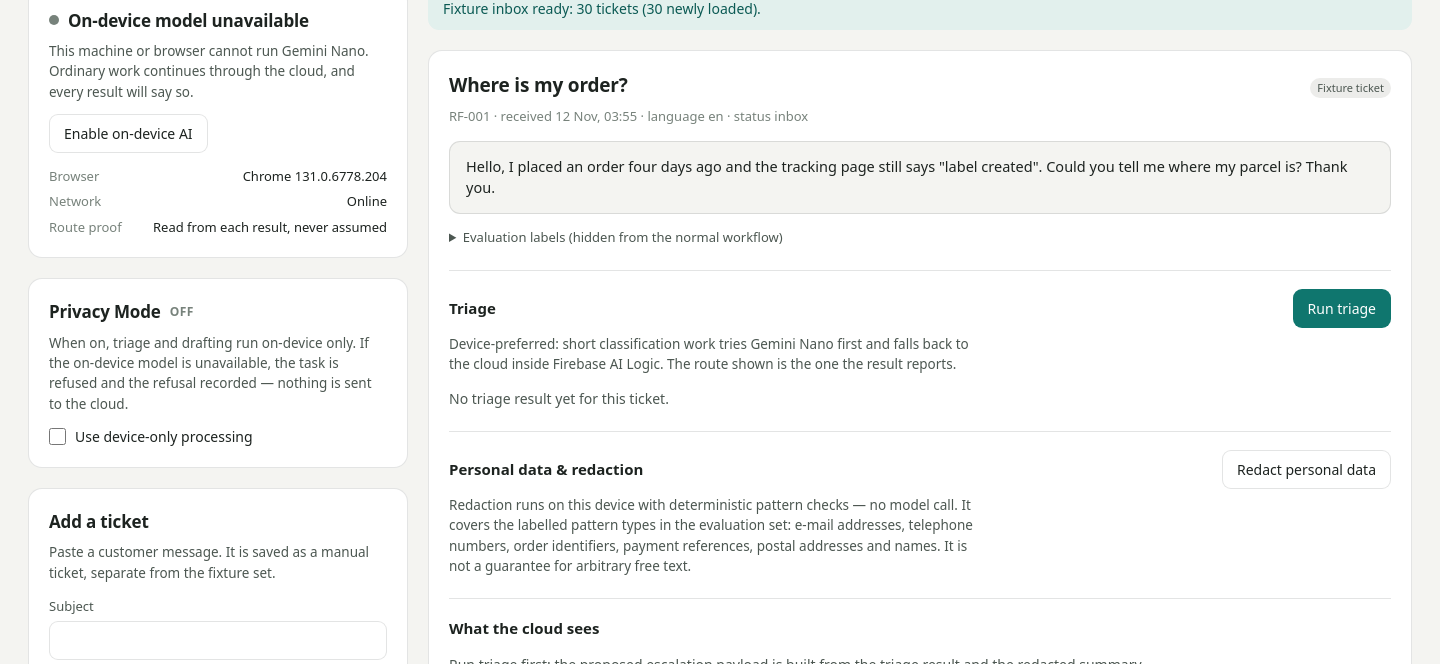
Scenario: App Privacy Mode escalation presentation (13 Nov fix) › recording the refusal stores the blocked route event with zero cloud calls
Click the button "Run triage". click: (1342, 308)
box: [1292,288,1391,328]
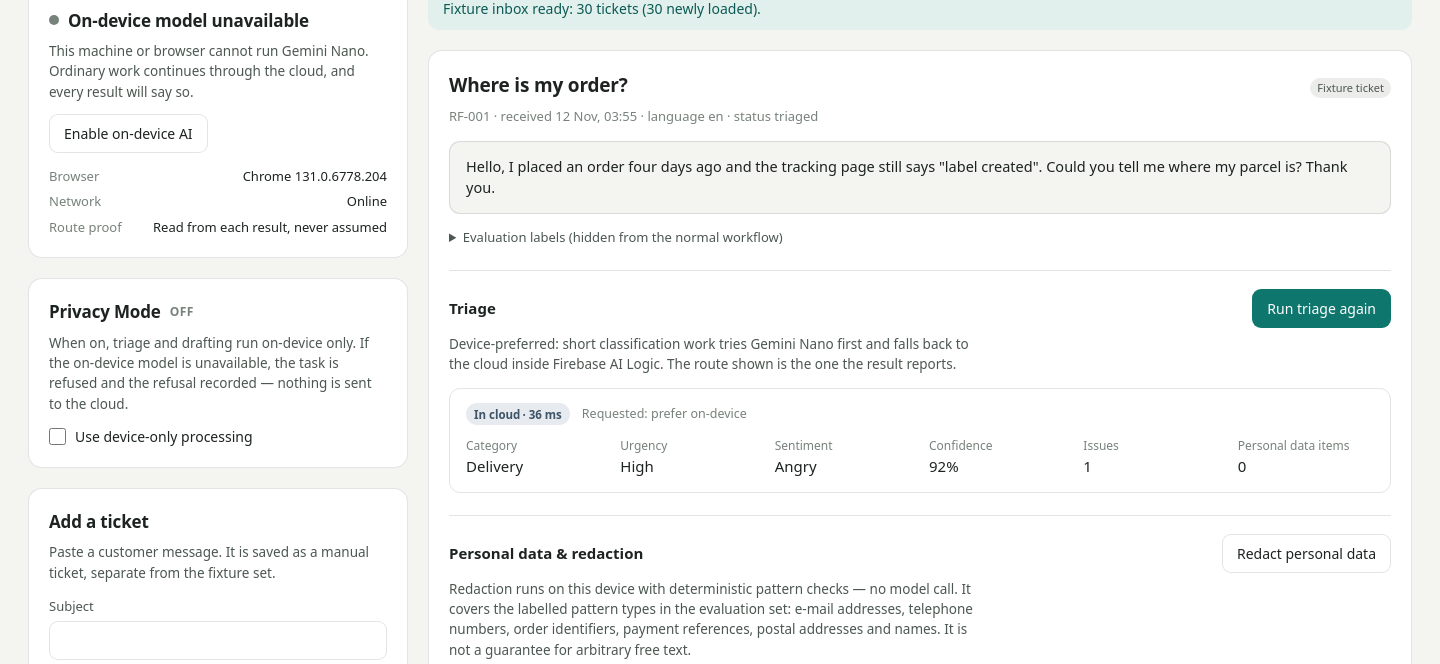
Click the button "Redact personal data". click: (1306, 553)
box: [1222,534,1391,573]
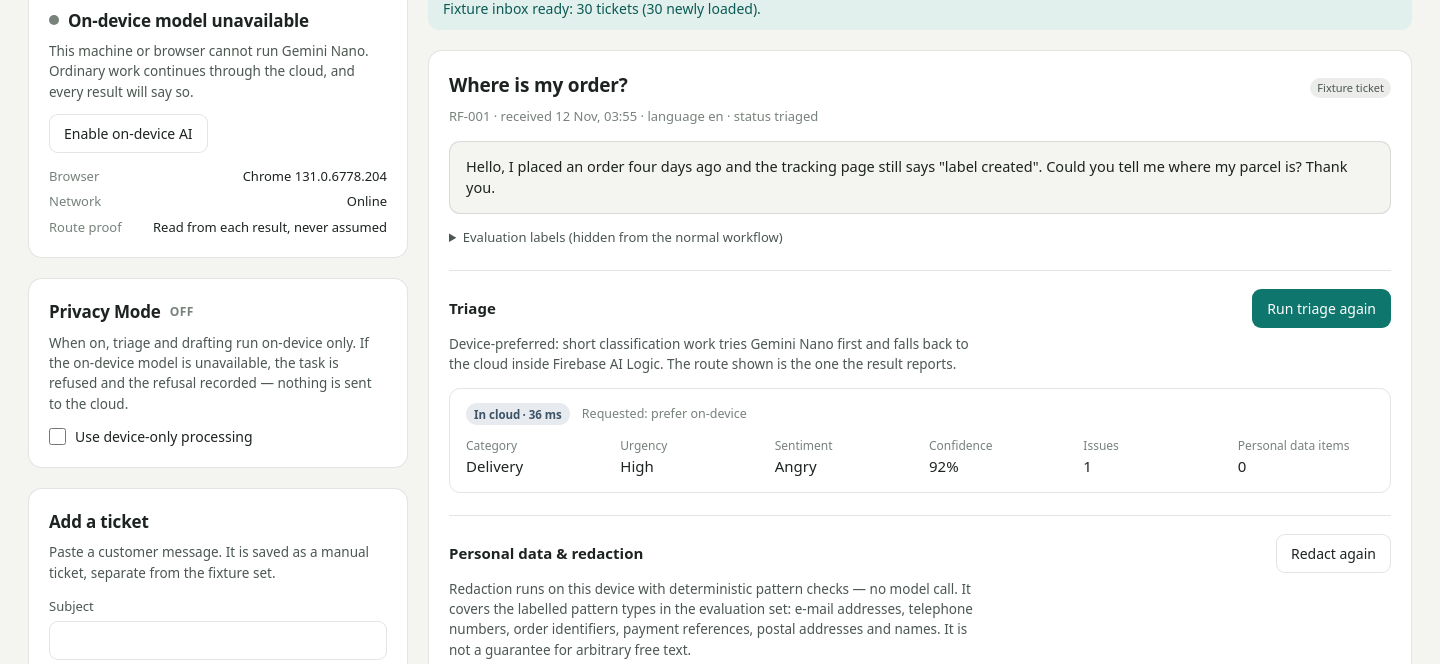
Click the checkbox labelled "Use device-only processing". click: (58, 436)
box: [49,428,66,445]
(page scrolled)
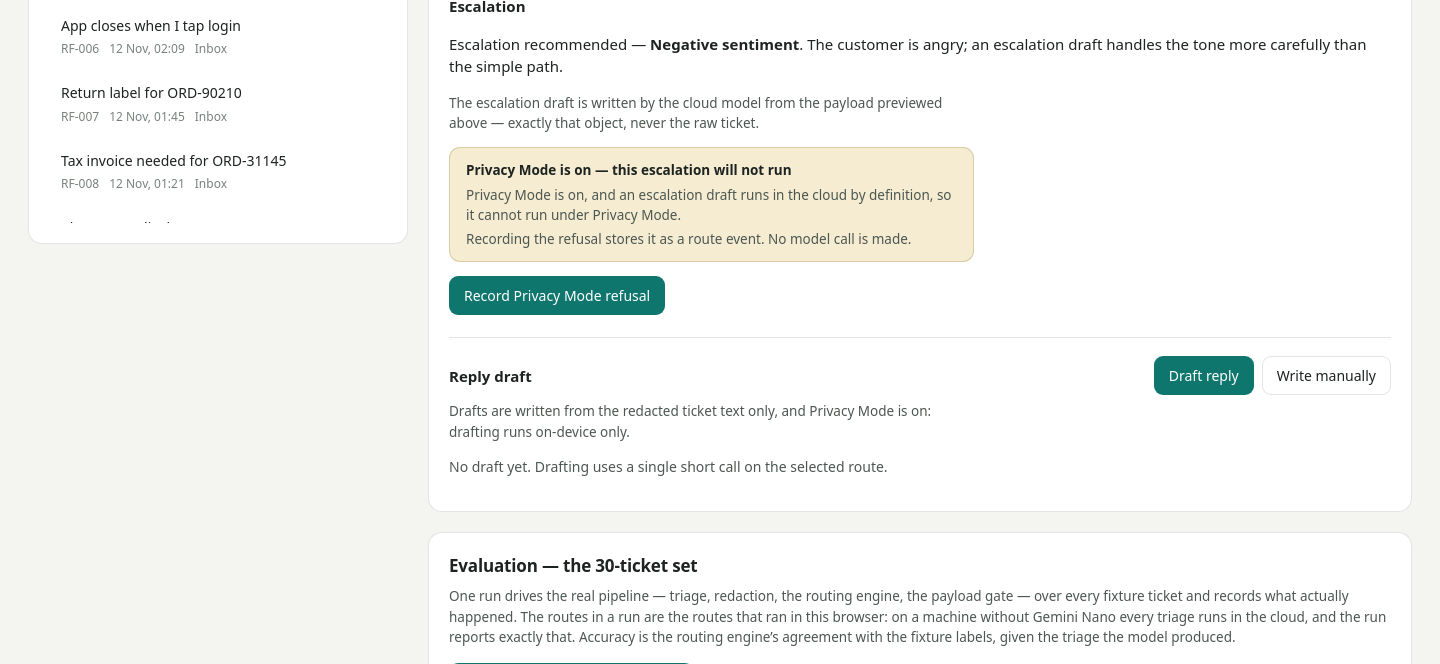
Click the button "Record Privacy Mode refusal". click: (557, 296)
box: [449,276,665,315]
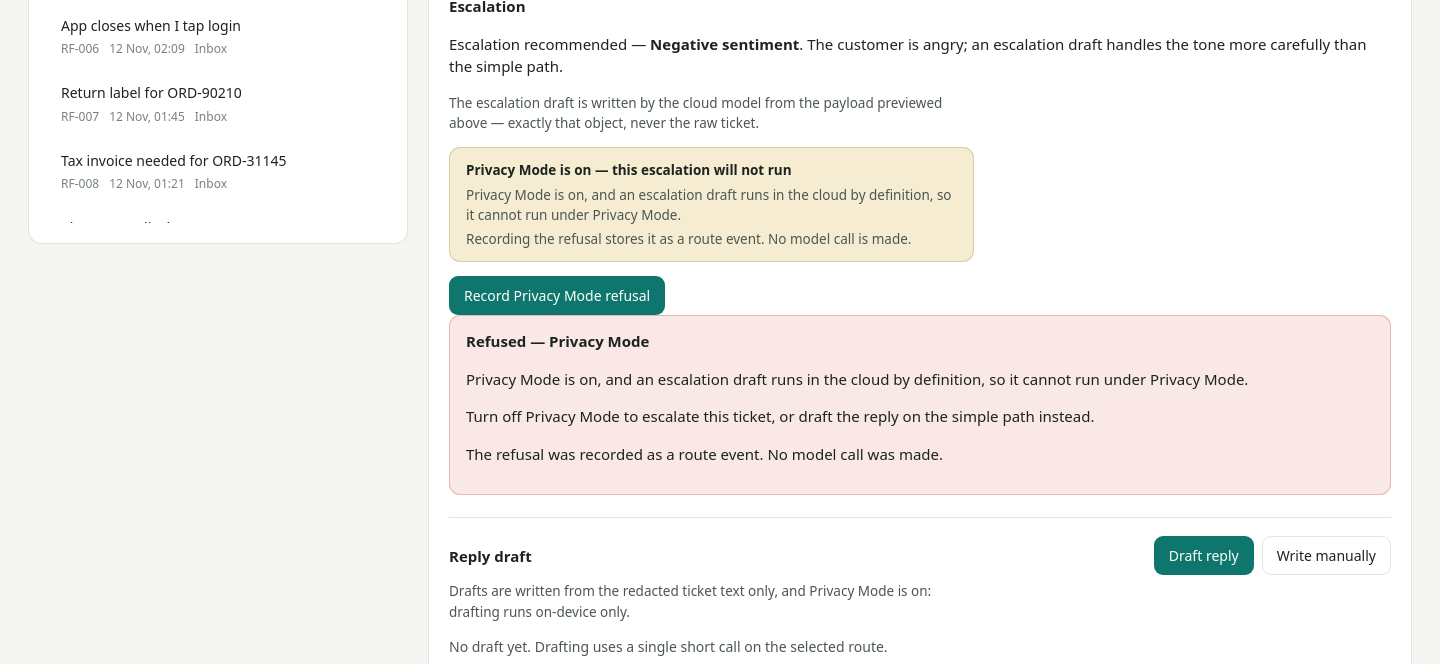
Now the text "cannot run under Privacy Mode" is shown, box [466,186,952,224]
Now the text "The refusal was recorded as a route event." is shown, box [466,444,943,464]
